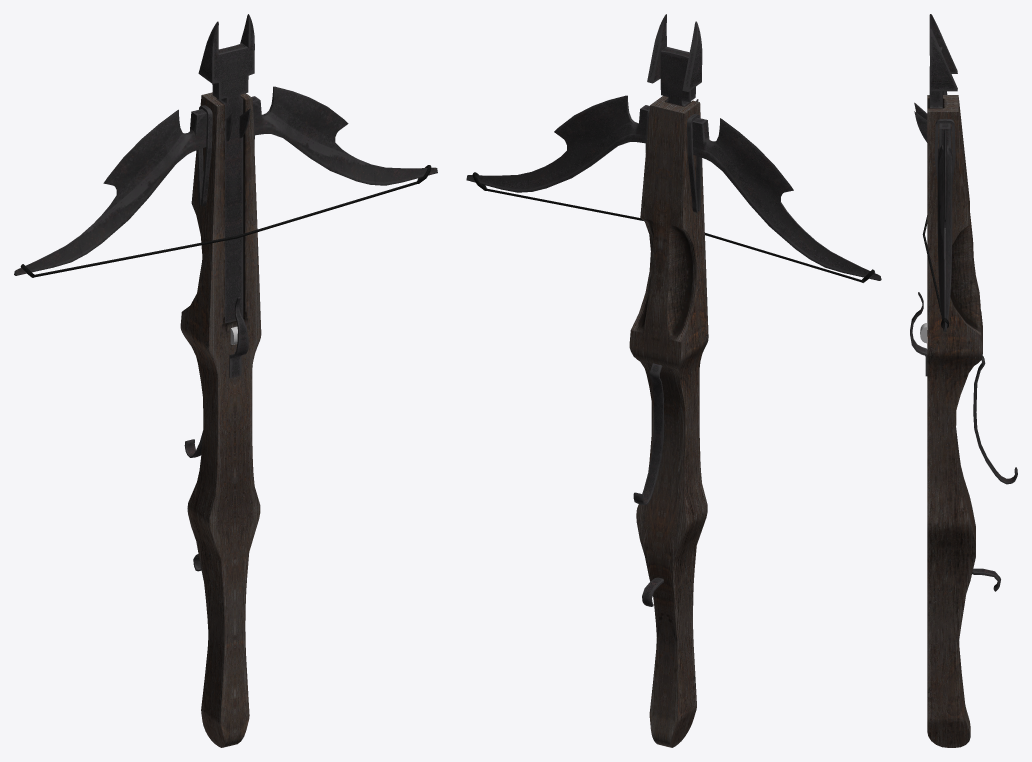
File: wm_isengard_crossbow_a01.fbx
3 views of the same model, side by side, from view 1: azimuth 30°, elevation 25°; view 2: azimuth 150°, elevation 25°; view 3: azimuth 270°, elevation 25° (orthographic). The views are drawn at different scales.
Parts seen in each view (by area): view 1: wm_isengard_crossbow_a01; view 2: wm_isengard_crossbow_a01; view 3: wm_isengard_crossbow_a01.
Part boxes in pixels (left/top/right/bottom): wm_isengard_crossbow_a01: left=14, top=14, right=437, bottom=747; wm_isengard_crossbow_a01: left=466, top=14, right=881, bottom=747; wm_isengard_crossbow_a01: left=910, top=14, right=1017, bottom=747.
Bounding box in the file's own units: 0.7092 × 0.1592 × 1.18.
Materials: 1 (1 with a texture image).
